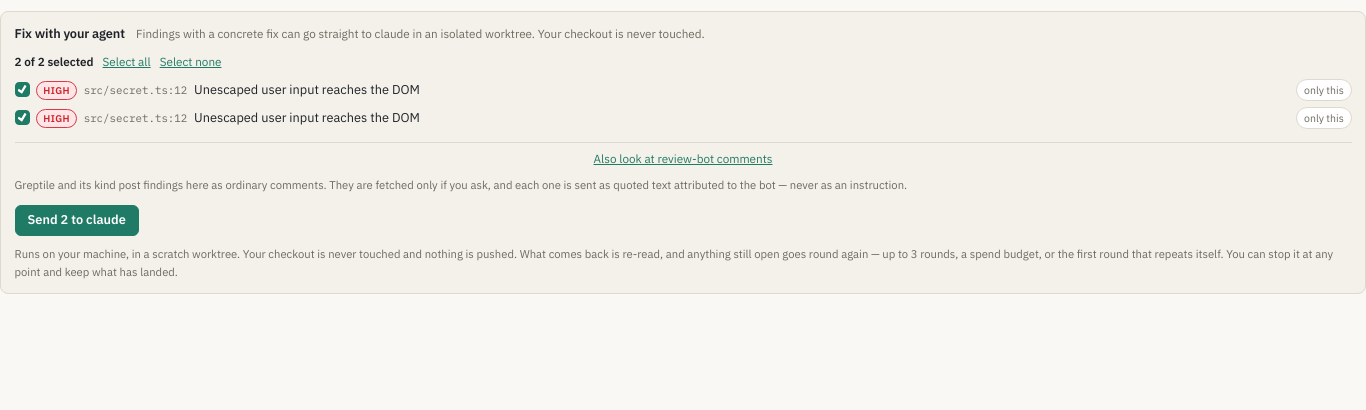
Scenario: unanswered skips › offers them as their own action with their own count
What coordinates should you click on to do the following:
click the button with test id "agent-fix-send"
I would click on:
 (77, 221)
Its box is left=14, top=205, right=139, bottom=236.
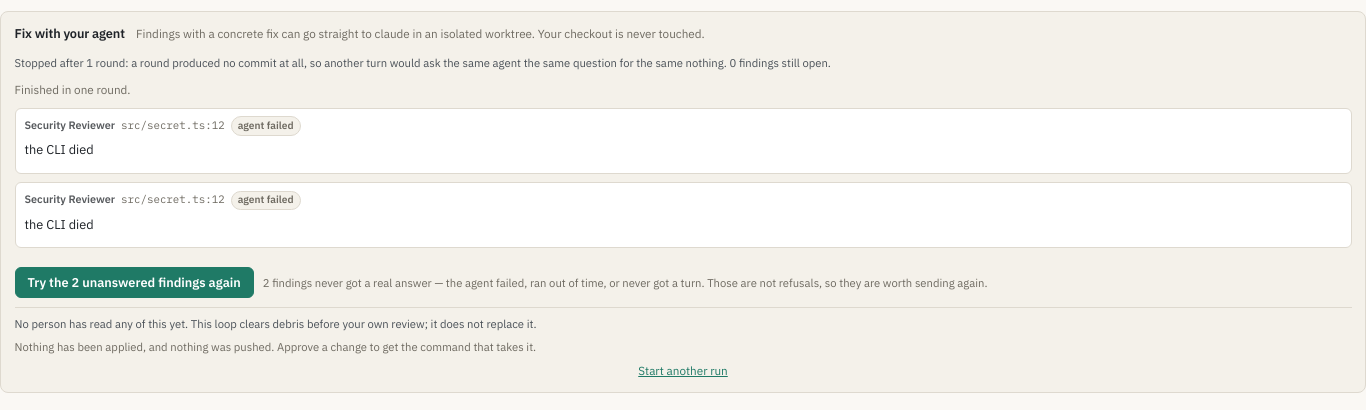
Check: the button with test id "agent-fix-retry-skips" reads "Try the 2 unanswered findings again", box left=14, top=267, right=254, bottom=298
